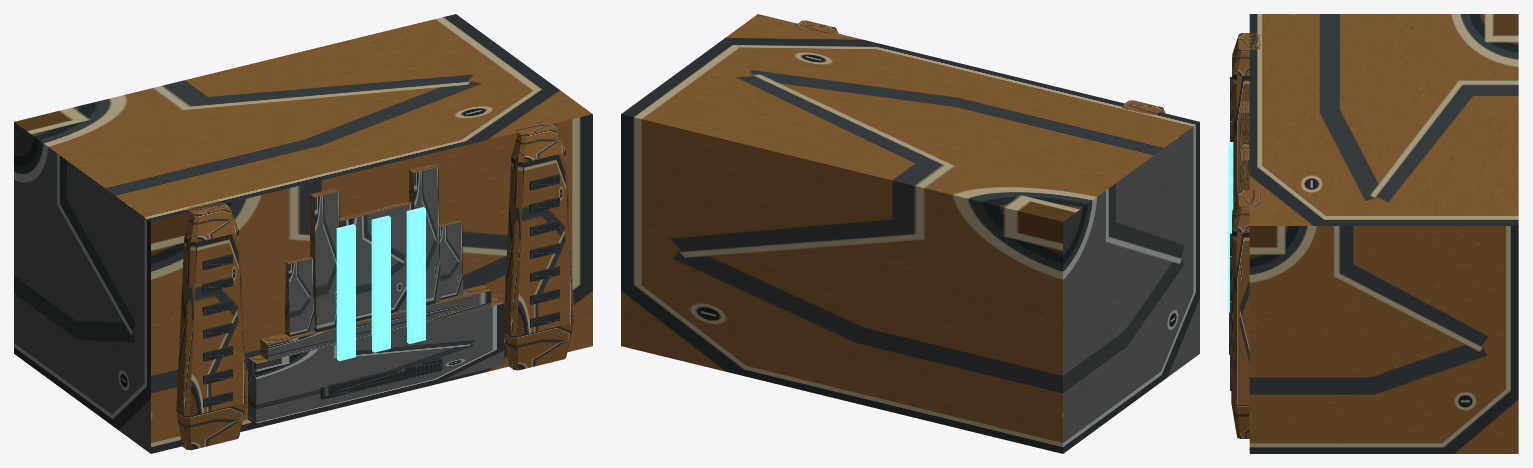
File: generator.glb
The picture shows the model from 3 angles, left to right: view 1: azimuth 30°, elevation 25°; view 2: azimuth 150°, elevation 25°; view 3: azimuth 270°, elevation 25°; orthographic projection.
Visible parts, largest first — view 1: STProp_generator_Body; view 2: STProp_generator_Body; view 3: STProp_generator_Body.
Boxes of the visible parts, bbox=[...] form: STProp_generator_Body: bbox=[14, 14, 592, 453]; STProp_generator_Body: bbox=[621, 14, 1199, 453]; STProp_generator_Body: bbox=[1228, 14, 1518, 453].
Bounding box in the file's own units: 6.06 × 3.04 × 3.5.
Materials: 5 (4 with a texture image).
